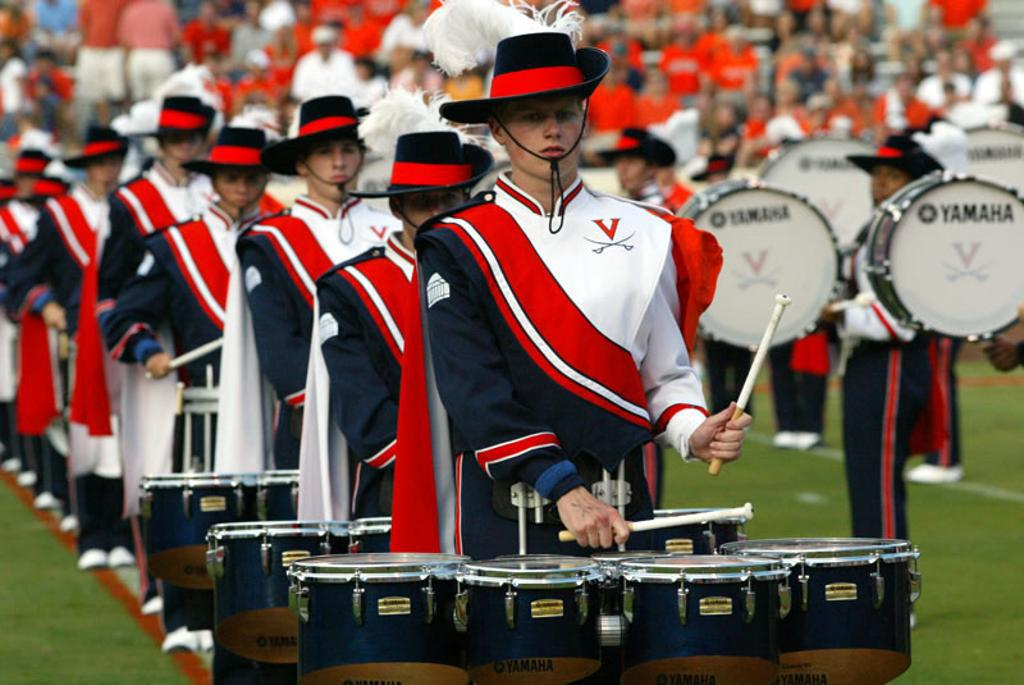face: (507, 90, 587, 180), (401, 171, 467, 242), (305, 127, 361, 200), (217, 155, 265, 214), (873, 154, 911, 210), (160, 124, 203, 171), (91, 147, 123, 186), (619, 145, 649, 185), (18, 169, 40, 194), (318, 39, 332, 58)
